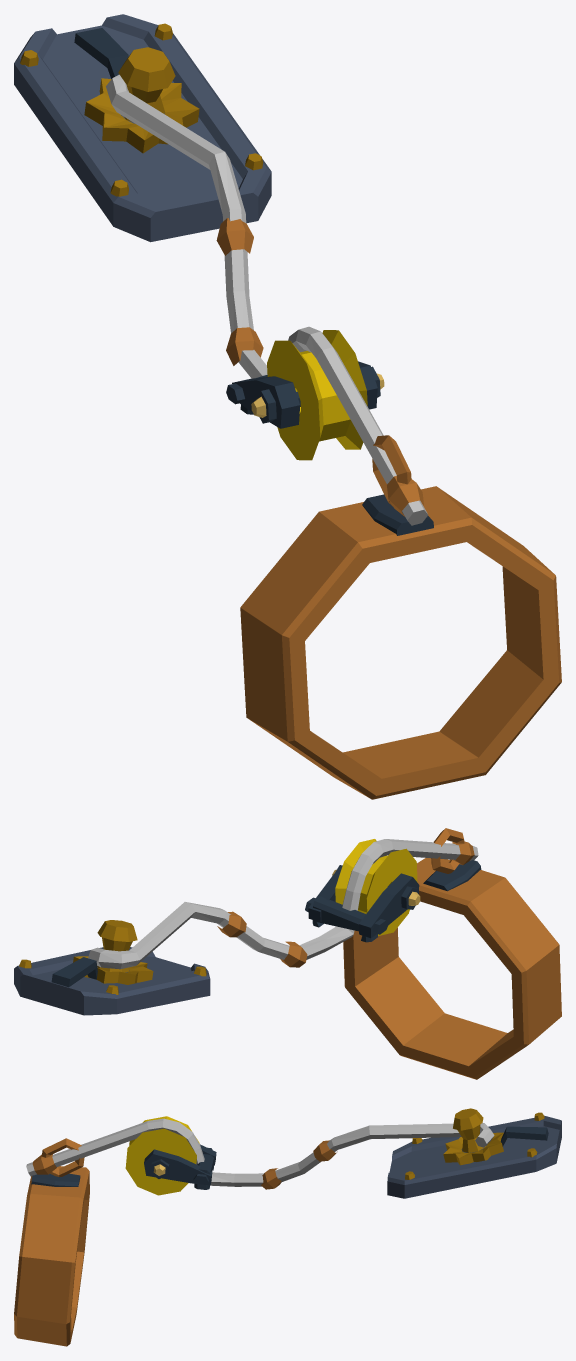
The model's file is pulley-tendon-b42265.glb.
3 views of the same model, one above another, from view 1: azimuth 30°, elevation 25°; view 2: azimuth 150°, elevation 25°; view 3: azimuth 270°, elevation 25° (orthographic). The views are drawn at different scales.
Parts seen in each view (by area): view 1: index-finger-phalanx-proximal, middle-finger-metacarpal, soft:index-finger; view 2: index-finger-phalanx-proximal, soft:index-finger, middle-finger-metacarpal; view 3: index-finger-phalanx-proximal, soft:index-finger, middle-finger-metacarpal.
Part boxes in pixels (bbox=[...]): index-finger-phalanx-proximal: bbox=[240, 435, 561, 799]; middle-finger-metacarpal: bbox=[14, 14, 271, 242]; soft:index-finger: bbox=[106, 74, 427, 525]; index-finger-phalanx-proximal: bbox=[343, 828, 561, 1079]; soft:index-finger: bbox=[88, 839, 478, 969]; middle-finger-metacarpal: bbox=[14, 920, 210, 1015]; index-finger-phalanx-proximal: bbox=[14, 1138, 89, 1346]; soft:index-finger: bbox=[26, 1116, 494, 1195]; middle-finger-metacarpal: bbox=[387, 1108, 561, 1198].
Bounding box in the file's own units: 0.0266 × 0.0339 × 0.0677.
